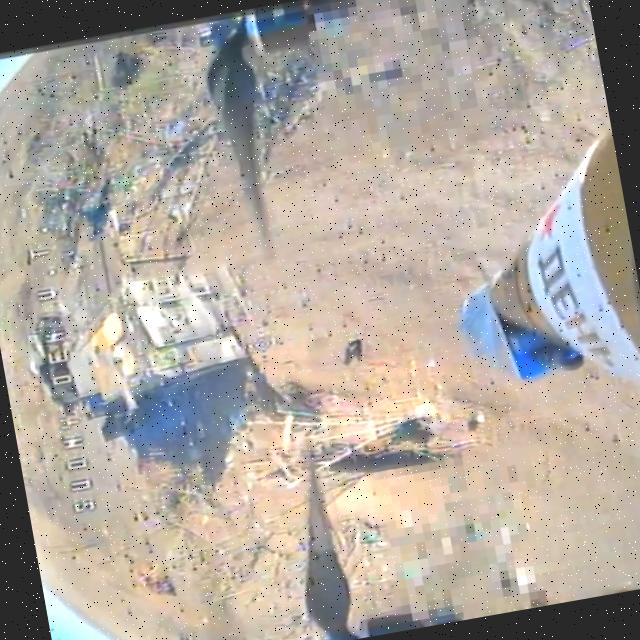Vehicle: (55, 263, 261, 435)
